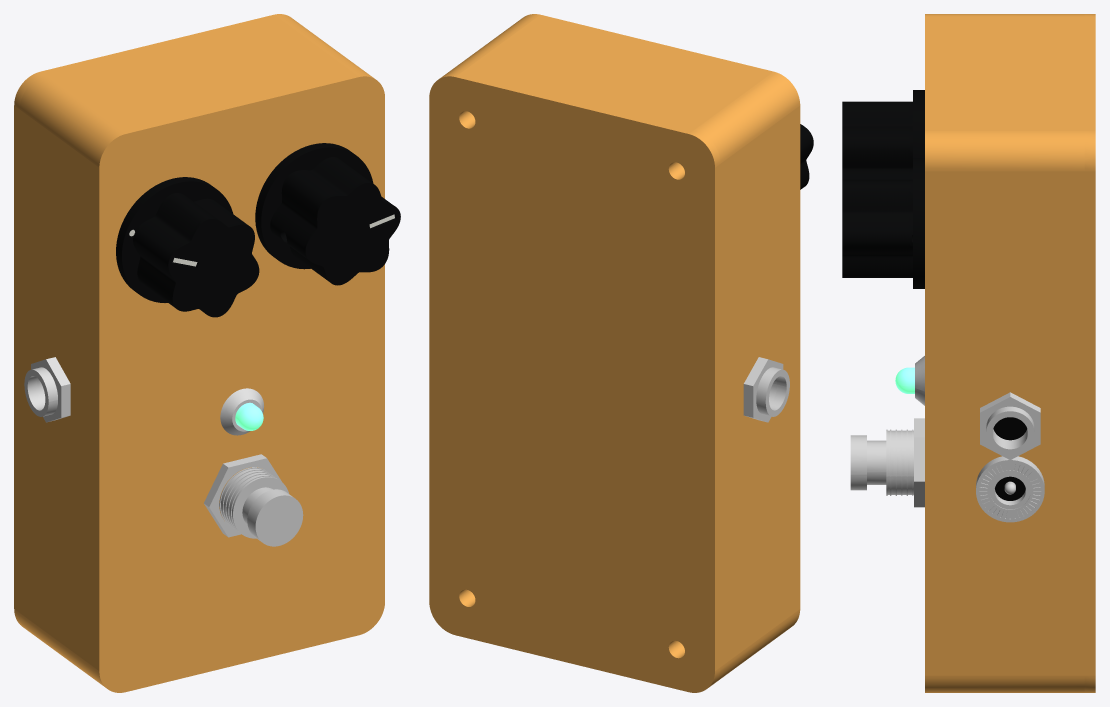
Rendered from stompbox-mxr-style-preview.glb.
3 renders of one model, left to right at view 1: azimuth 30°, elevation 25°; view 2: azimuth 150°, elevation 25°; view 3: azimuth 270°, elevation 25°, orthographic.
Visible parts, largest first — view 1: box-1590b/o1.1, knob-GAIN/o1.1, knob-LEVEL/o1.1, box-1590b/o1.2, switch-SW1/o1.3, switch-SW1/o1.2, switch-SW1/o1.1, jack-OUT/o1.2, jack-OUT/o1.1, led-LED1/o1.1, led-LED1/o1.2; view 2: box-1590b/o1.2, box-1590b/o1.1, jack-OUT/o1.2, jack-OUT/o1.1, knob-GAIN/o1.1; view 3: box-1590b/o1.1, knob-LEVEL/o1.1, box-1590b/o1.2, knob-GAIN/o1.1, power-9v/o1.1, switch-SW1/o1.3, switch-SW1/o1.2, jack-IN/o1.1, jack-IN/o1.2, switch-SW1/o1.1, hole-backing-jack-IN, hole-backing-power-9v (+2 smaller).
Boxes of the visible parts, x1,y1,x2,y2 form: box-1590b/o1.1: (19,18,384,692); knob-GAIN/o1.1: (116,177,259,317); knob-LEVEL/o1.1: (255,143,400,285); box-1590b/o1.2: (14,14,294,628); switch-SW1/o1.3: (242,487,303,546); switch-SW1/o1.2: (219,467,288,538); switch-SW1/o1.1: (204,454,282,537); jack-OUT/o1.2: (24,367,57,416); jack-OUT/o1.1: (31,357,70,422); led-LED1/o1.1: (220,388,264,435); led-LED1/o1.2: (235,402,263,430); box-1590b/o1.2: (429,72,720,692); box-1590b/o1.1: (445,14,800,684); jack-OUT/o1.2: (756,367,789,416); jack-OUT/o1.1: (743,357,783,422); knob-GAIN/o1.1: (800,124,813,189); box-1590b/o1.1: (925,14,1084,692); knob-LEVEL/o1.1: (842,158,924,288); box-1590b/o1.2: (1084,14,1095,692); knob-GAIN/o1.1: (842,90,924,168); power-9v/o1.1: (976,456,1044,522); switch-SW1/o1.3: (850,435,886,490); switch-SW1/o1.2: (886,429,913,495); jack-IN/o1.1: (980,392,1040,460); jack-IN/o1.2: (986,406,1034,455); switch-SW1/o1.1: (914,418,924,507); hole-backing-jack-IN: (993,417,1027,440); hole-backing-power-9v: (995,476,1025,500).
Size of what is drawn, in the model's own units: 68.5 by 112 by 46.
